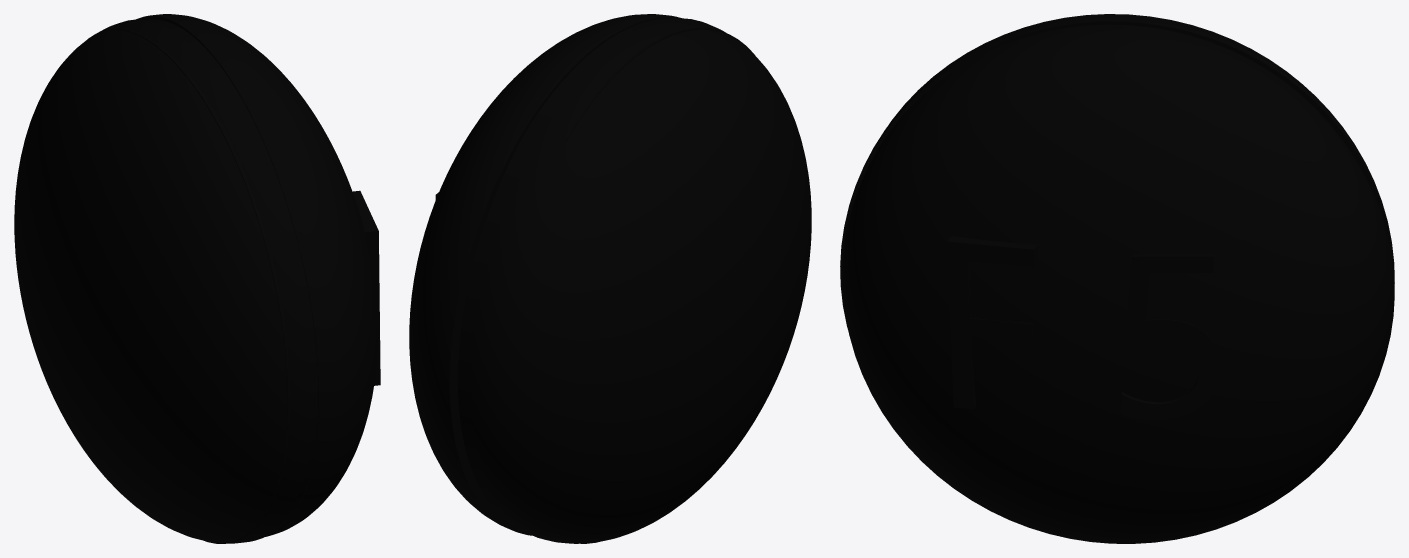
The model's file is Proscar.fbx.
The picture shows the model from 3 angles, left to right: view 1: azimuth 30°, elevation 25°; view 2: azimuth 150°, elevation 25°; view 3: azimuth 270°, elevation 25°; orthographic projection. The views are drawn at different scales.
Visible parts, largest first — view 1: node_id334 (×2), node_id106, node_id264; view 2: node_id334 (×2), node_id106; view 3: node_id334 (×2), node_id273, node_id264, node_id106.
Boxes of the visible parts, left/top/right/bottom form: node_id334 (×2): left=14, top=14, right=377, bottom=543; node_id106: left=88, top=19, right=318, bottom=543; node_id264: left=352, top=190, right=380, bottom=385; node_id334 (×2): left=409, top=14, right=811, bottom=543; node_id106: left=457, top=18, right=754, bottom=543; node_id334 (×2): left=840, top=15, right=1394, bottom=543; node_id273: left=1121, top=254, right=1219, bottom=419; node_id264: left=947, top=236, right=1037, bottom=409; node_id106: left=861, top=14, right=1354, bottom=182.
Size of the model in its own units: 0.7469 by 1.28 by 1.29.
5 materials, 5 textured.
